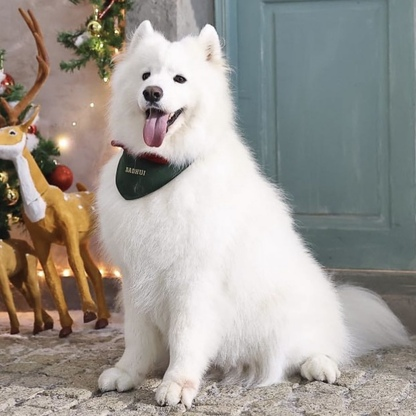samoyed: (82, 11, 416, 411)
